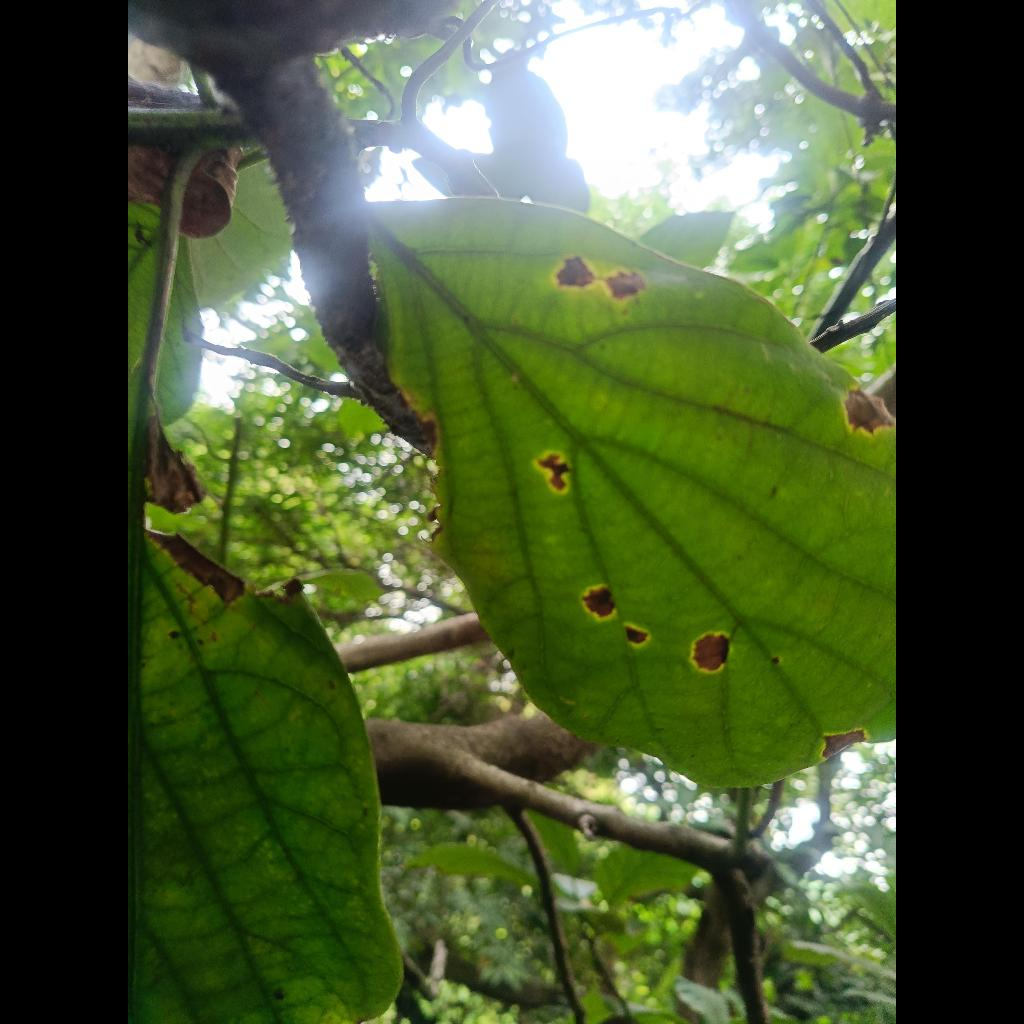Anthracnose: (371, 199, 896, 787)
